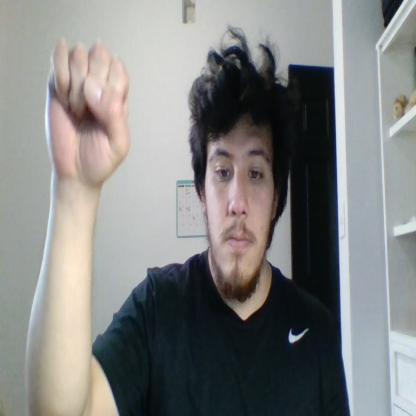S: (44, 38, 130, 185)
